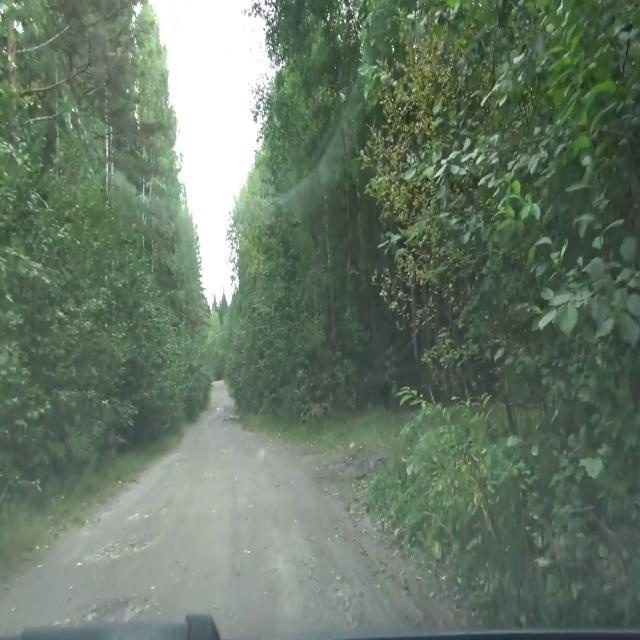pothole: (75, 570, 154, 638), (72, 522, 172, 574), (215, 406, 248, 439)
